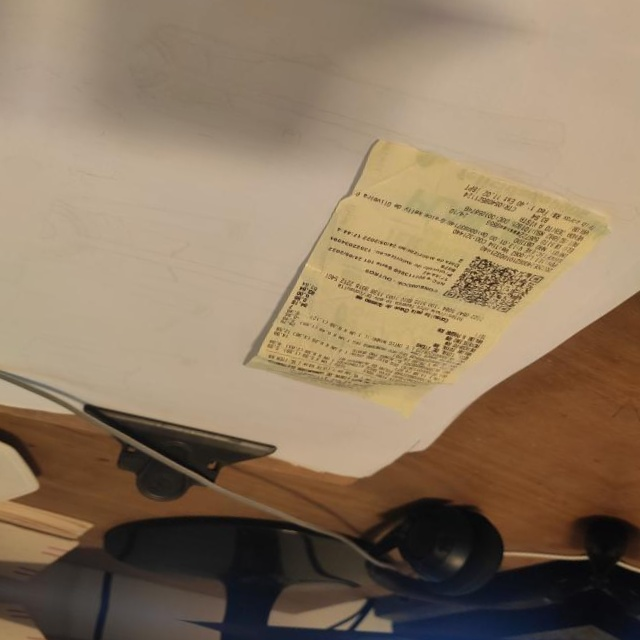qr-code: (441, 251, 546, 319)
